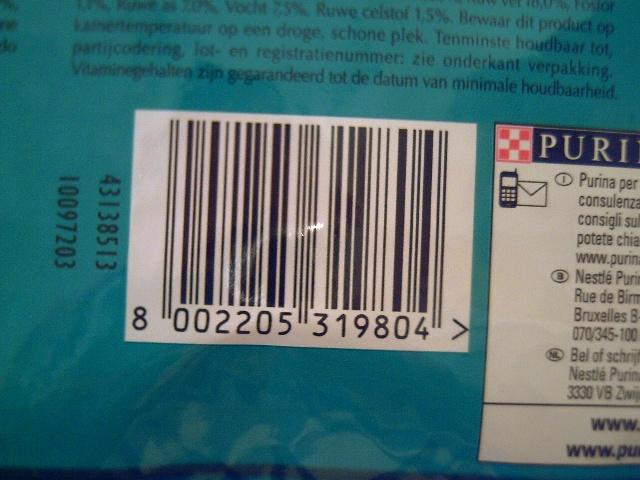Barcode: (122, 109, 477, 354)
